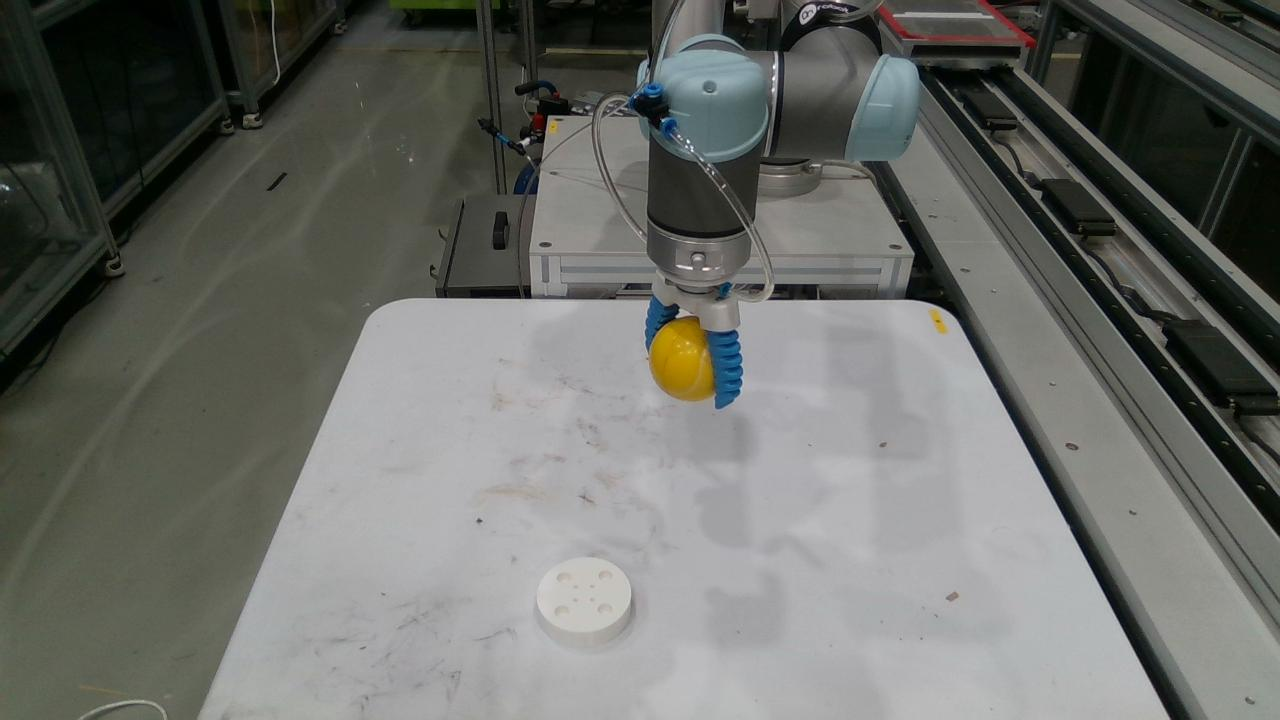UR5: (636, 0, 917, 332)
gripper_left: (644, 296, 679, 351)
gripper_right: (707, 331, 743, 408)
target: (535, 557, 633, 648), (648, 315, 714, 401)
